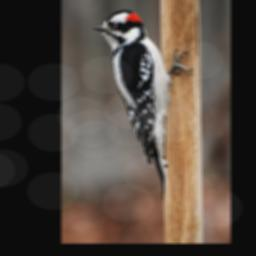Woodpecker: (93, 9, 193, 199)
